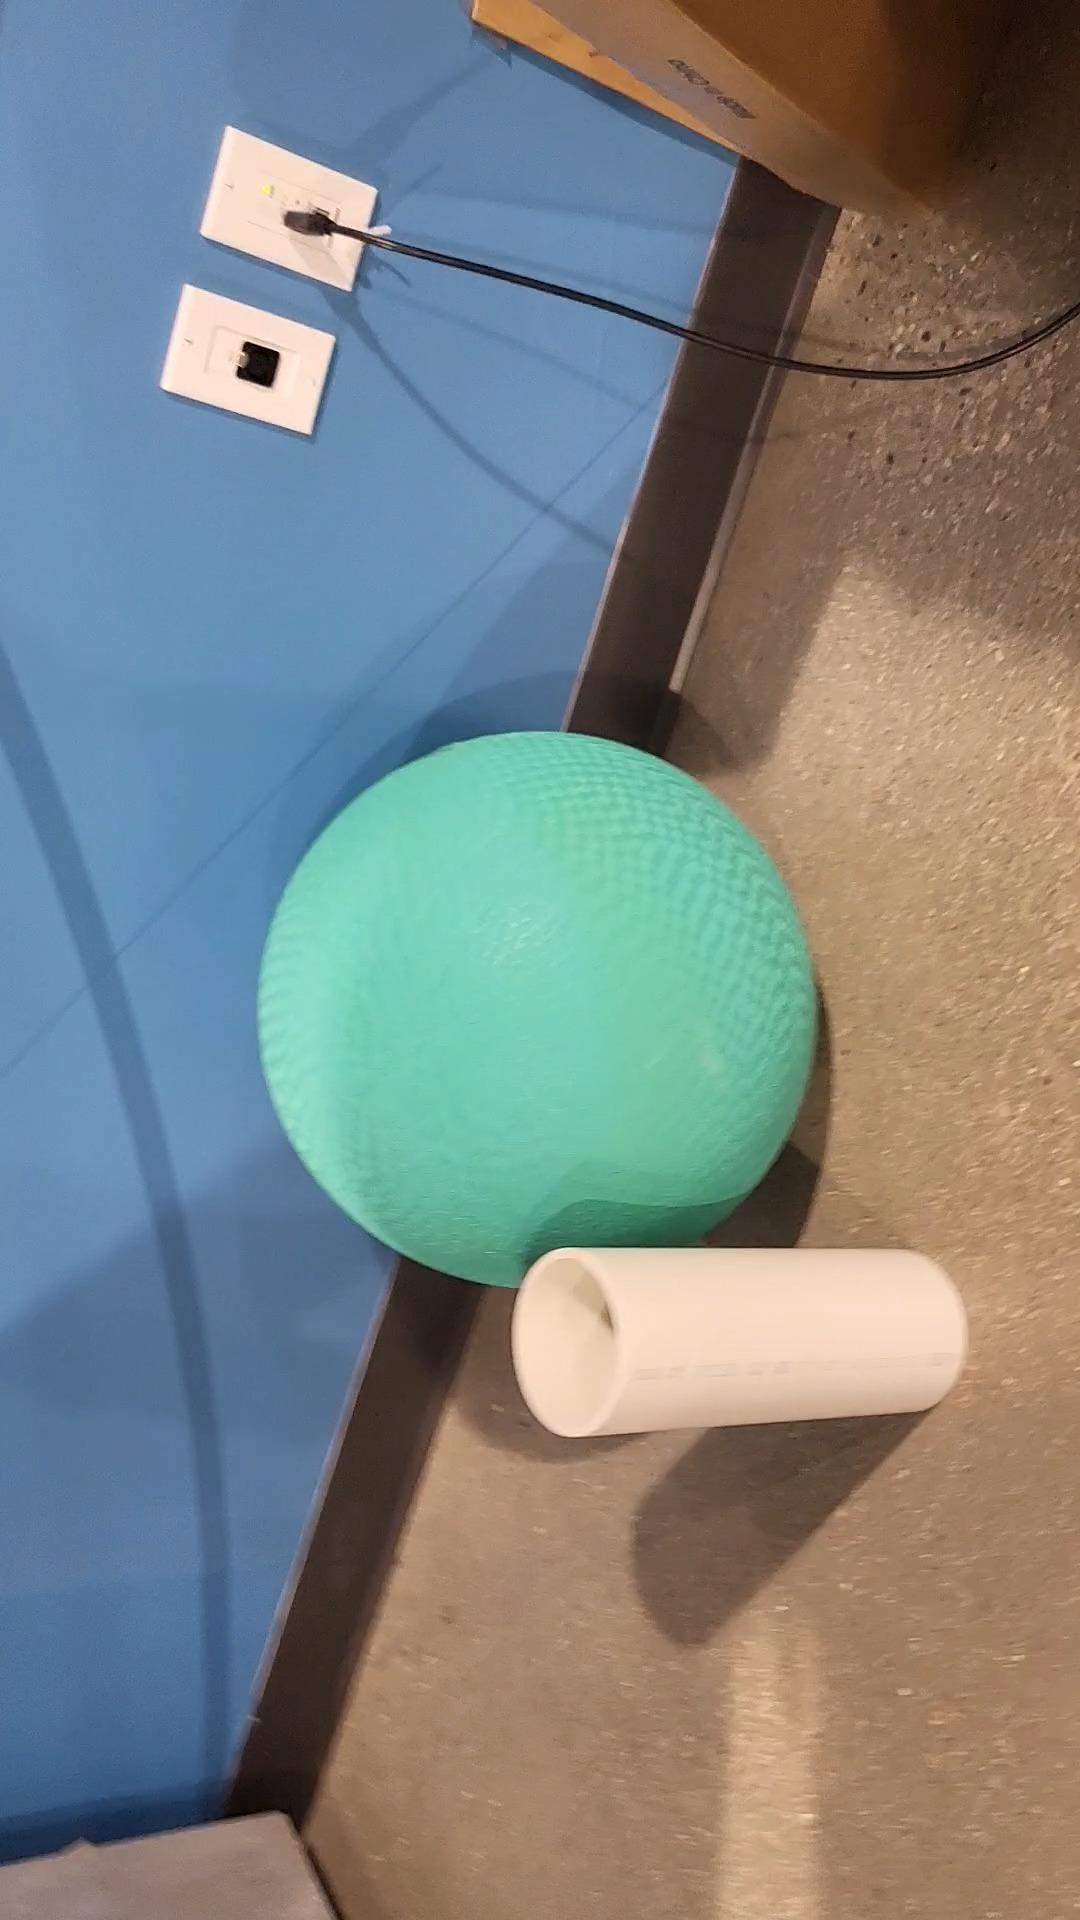algae: (261, 731, 812, 1292)
coral: (517, 1247, 965, 1439)
